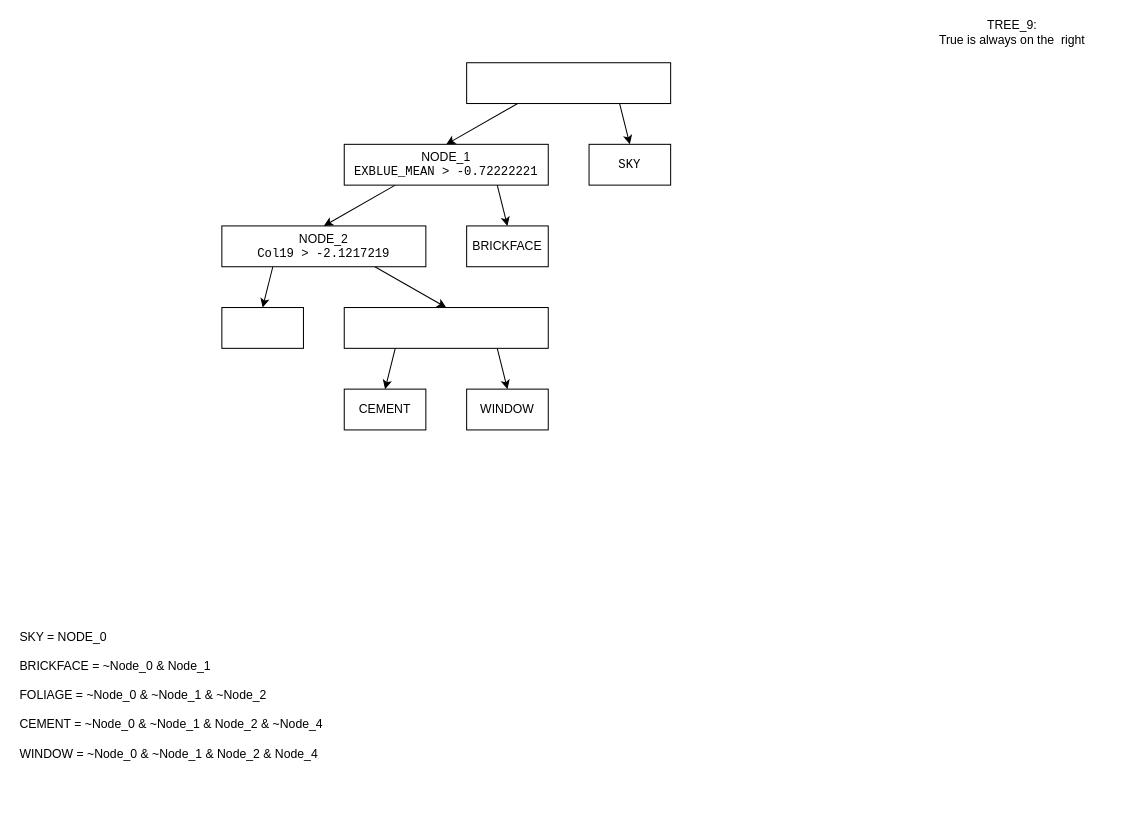
The diagram is 1136 pixels wide and 815 high, and some of its shapes have lost their labels. The shapes that lost their labels are listed below. From the top down, each one's centre as x and y in pixels, then its label:
At (x=568, y=83): "NODE_0 SATURATION_MEAN > 91.22222".
At (x=262, y=327): "FOLIAGE".
At (x=445, y=327): "Node_4 HUE_MEAN > 0.454499555".
